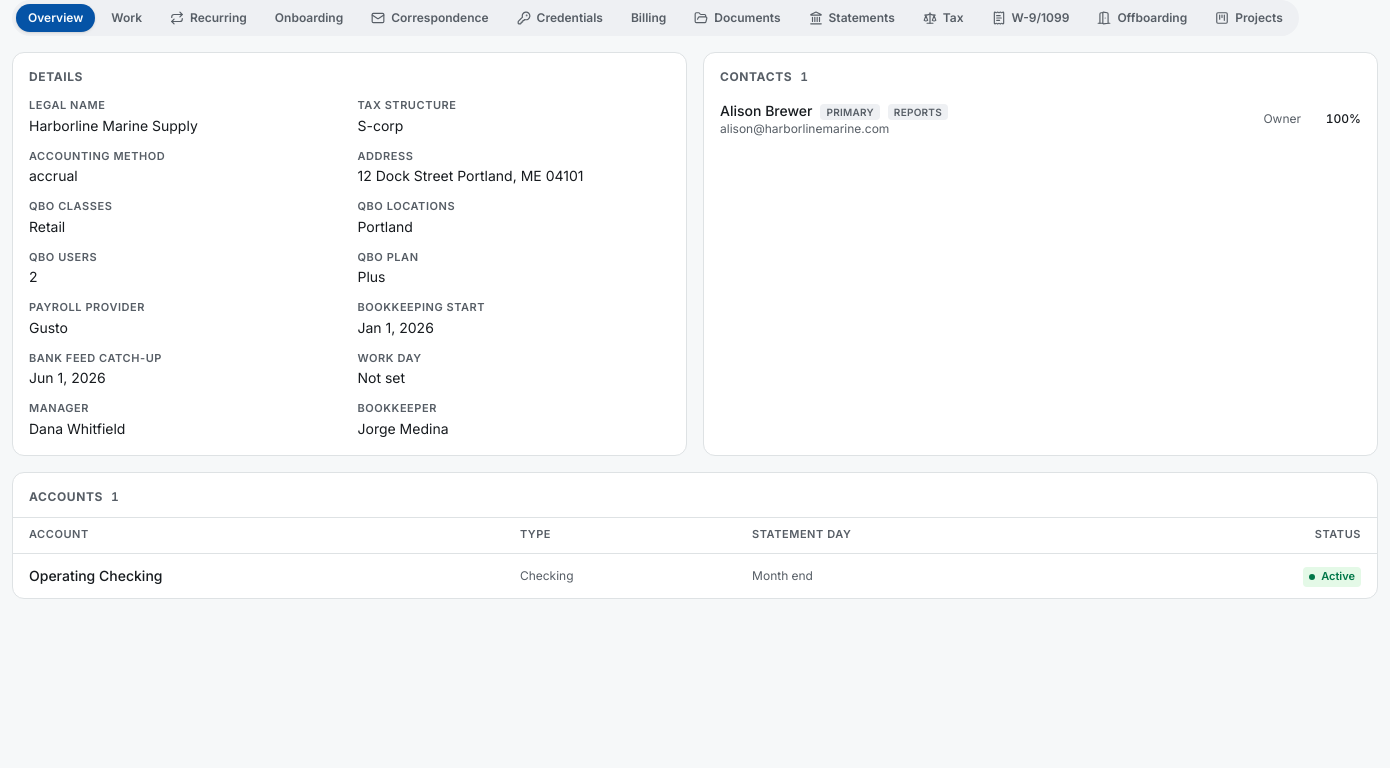
Test: ClientDetailTabs content › renders the billing empty state when no template exists
The width and height of the screenshot is (1390, 768).
What coordinates should you click on to do the following:
click the tab with test id "billing-tab"
I would click on:
 (649, 18)
Its box is [619,4,678,32].
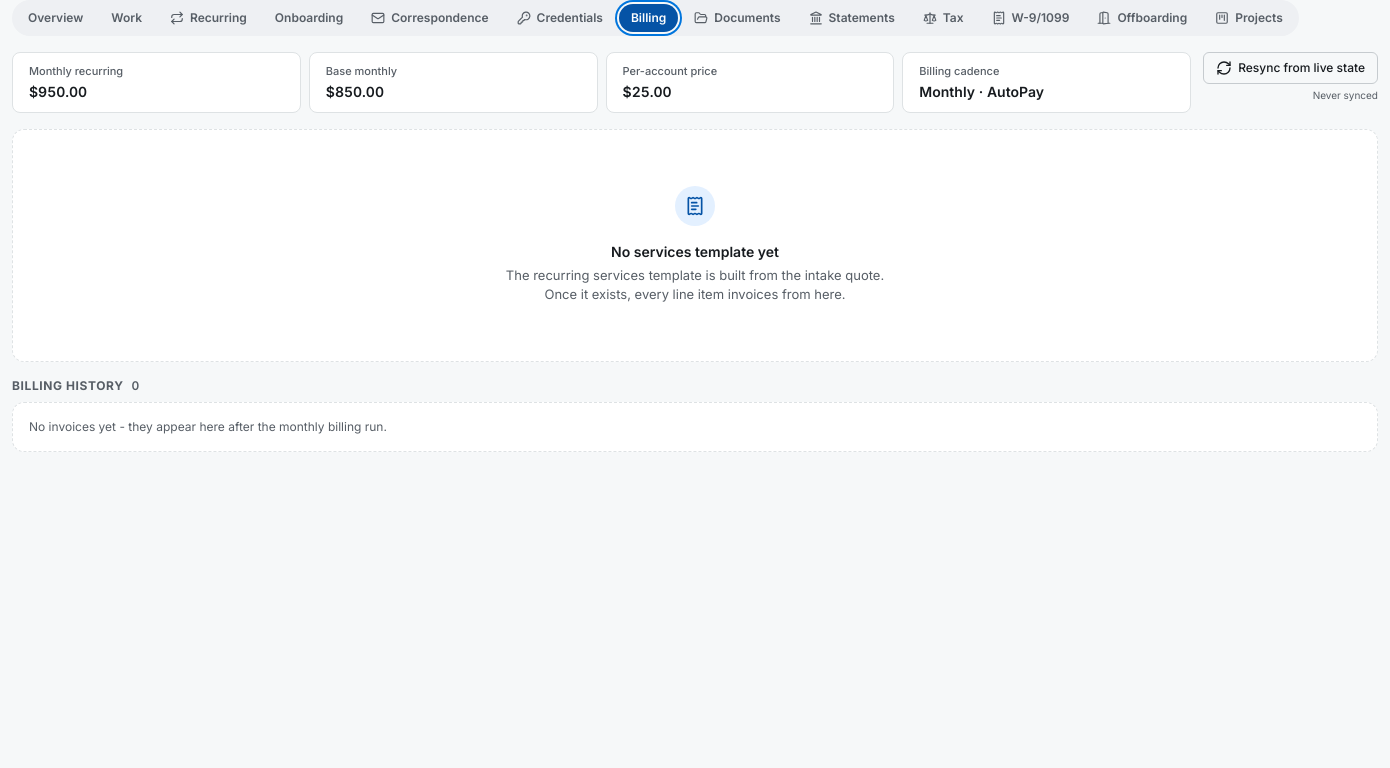
Check: the heading "No services template yet" is shown, box [611,242,779,262]
